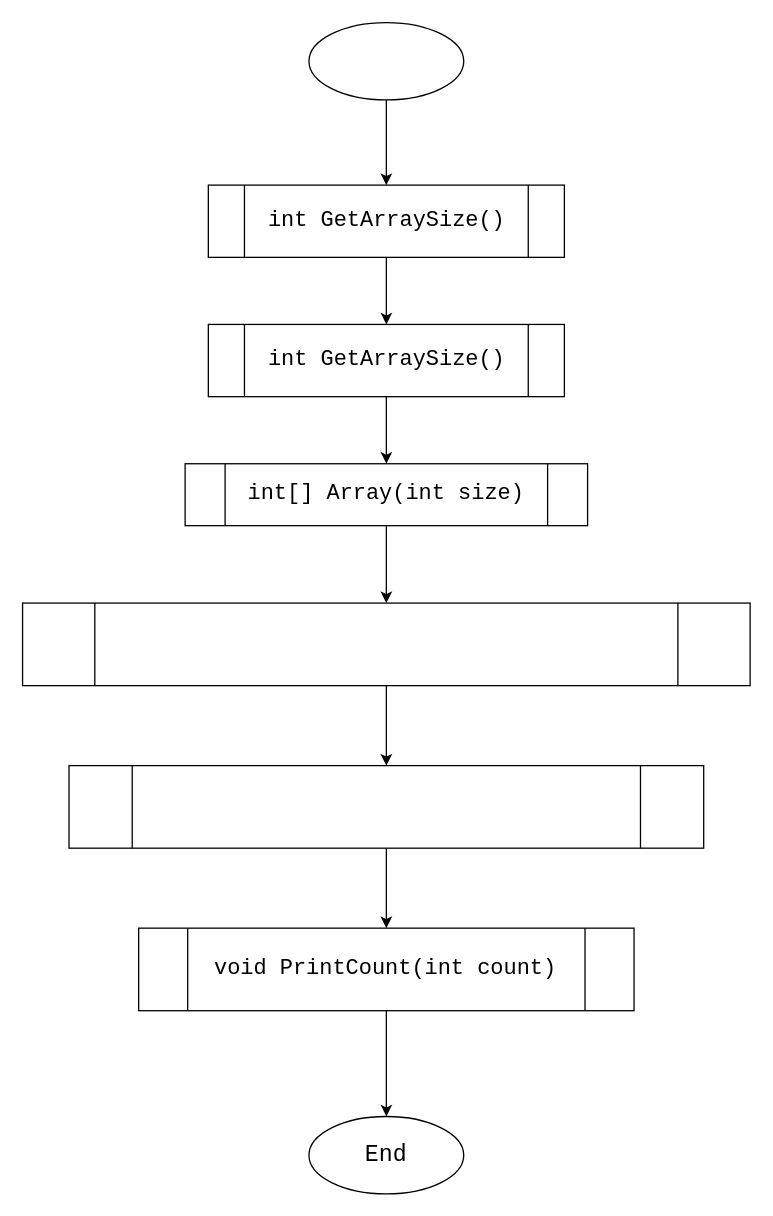
Some shapes in this 773 by 1216 pixel diagram are drawn without their labels. Here are the shapes that lost their labels. From the top down, the centre of each, then its label:
[386,60]: Start
[385,644]: void FillArrByUser(int[] arr, int size)
[386,806]: int FindPositiveCount(int[] array)
